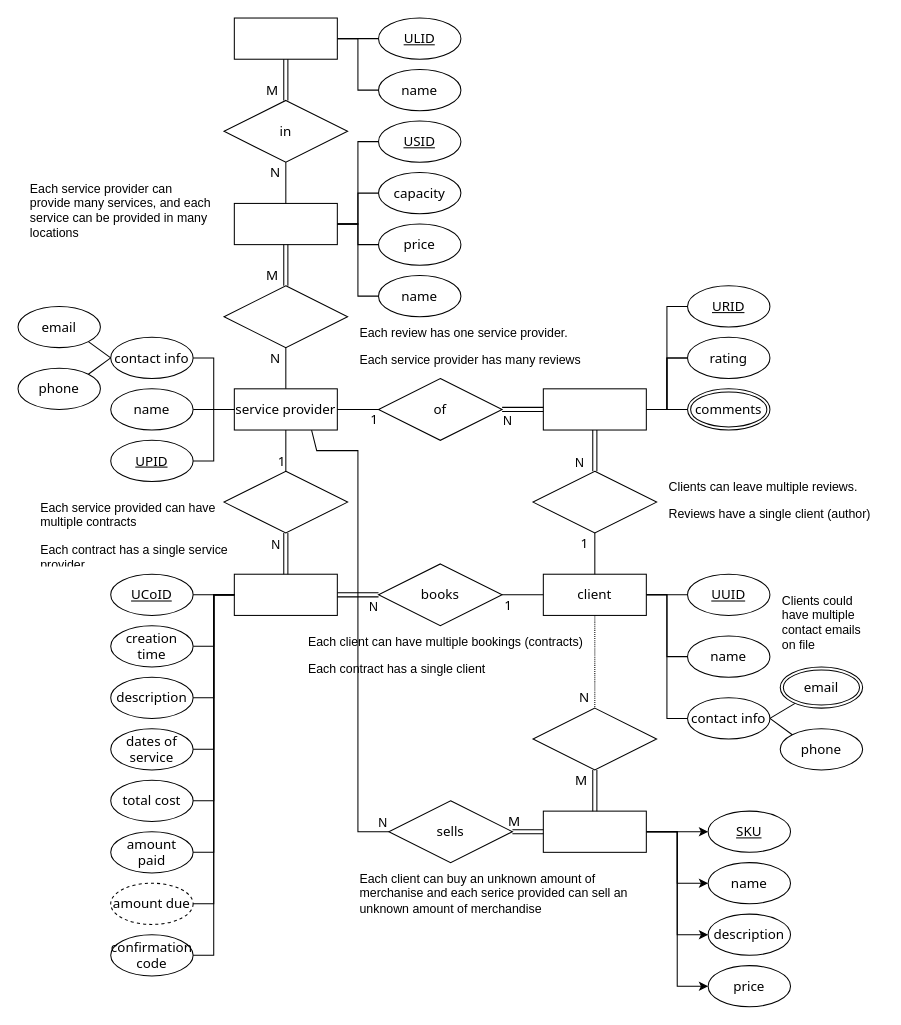
Image size: 901x1025. Some labels were removed from this diagram. Each missing label, with the centre of its shape:
"buys" goes at pixel 594 738.
"contract" goes at pixel 285 594.
"leaves" goes at pixel 594 501.
"location" goes at pixel 285 38.
"merchandise" goes at pixel 594 831.
"provides" goes at pixel 285 316.
"review" goes at pixel 594 409.
"service" goes at pixel 285 223.
"services" goes at pixel 285 501.
